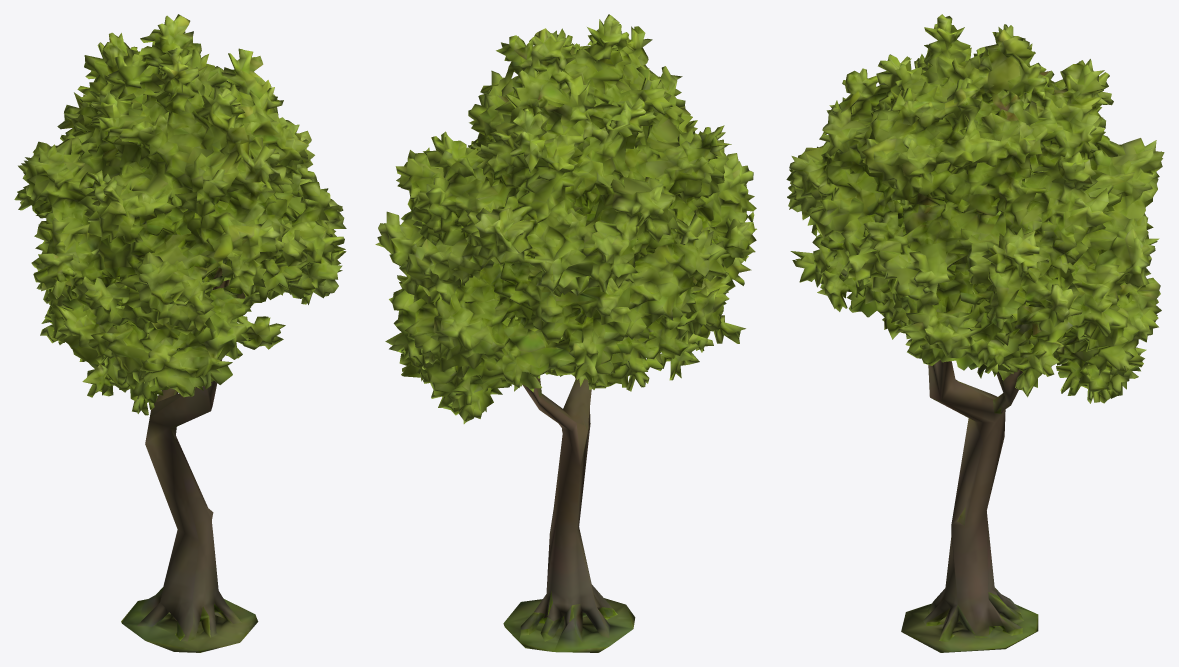
The model's file is arvore_nova1_ra.glb.
3 views of the same model, side by side, from view 1: azimuth 30°, elevation 25°; view 2: azimuth 150°, elevation 25°; view 3: azimuth 270°, elevation 25° (orthographic). The views are drawn at different scales.
Visible parts, largest first — view 1: mesh_0; view 2: mesh_0; view 3: mesh_0.
Boxes of the visible parts, box(x1,y1,x2,y2) form: mesh_0: box(14, 14, 346, 652); mesh_0: box(375, 14, 756, 652); mesh_0: box(786, 14, 1164, 652).
Size of the model in its own units: 1.06 by 2.01 by 1.14.
Materials: 1 (1 with a texture image).
